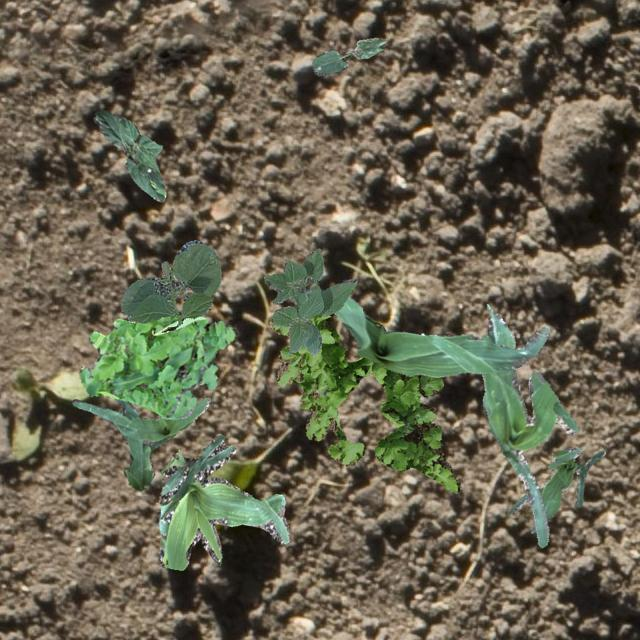crop: (480, 308, 578, 546), (156, 434, 288, 570), (334, 296, 548, 376), (72, 396, 210, 489), (264, 248, 356, 354), (120, 240, 220, 326), (506, 446, 604, 532), (92, 108, 164, 200), (312, 36, 386, 74)
weed: (268, 312, 461, 492), (78, 314, 236, 418)
